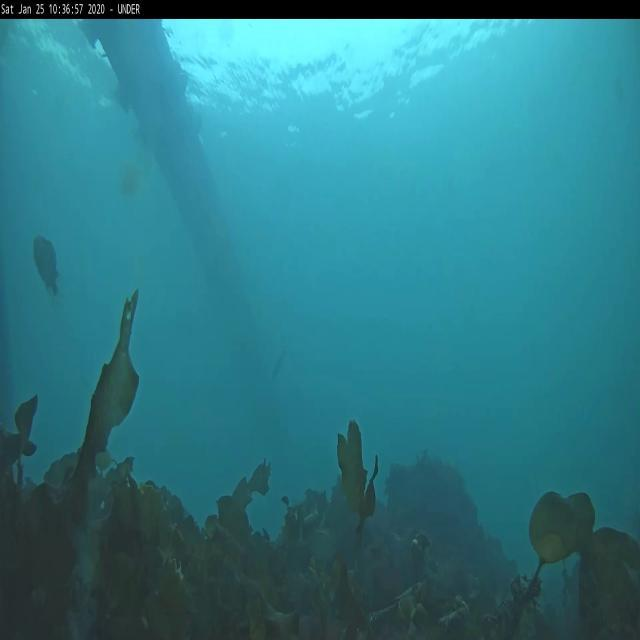fish: (34, 232, 63, 298), (269, 351, 287, 389)
